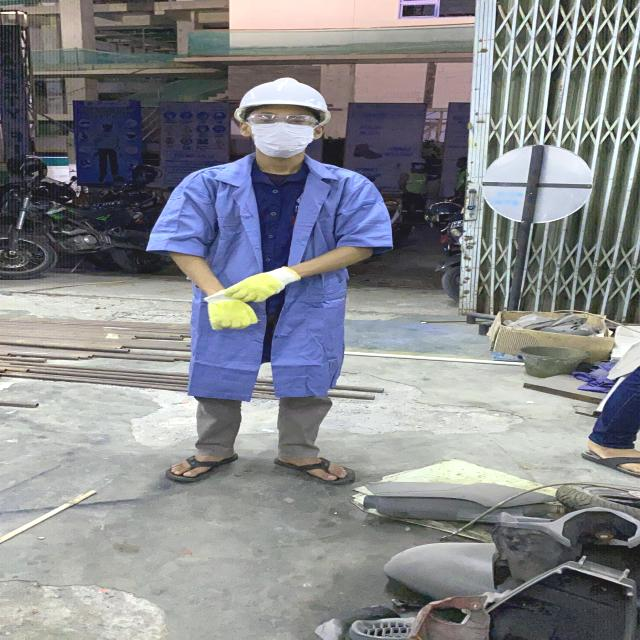face_mask: (247, 111, 318, 156)
glasses: (242, 112, 328, 129)
hand_glove: (222, 265, 298, 303), (202, 293, 266, 332)
head_helmet: (229, 76, 333, 114)
person: (151, 74, 397, 486)
